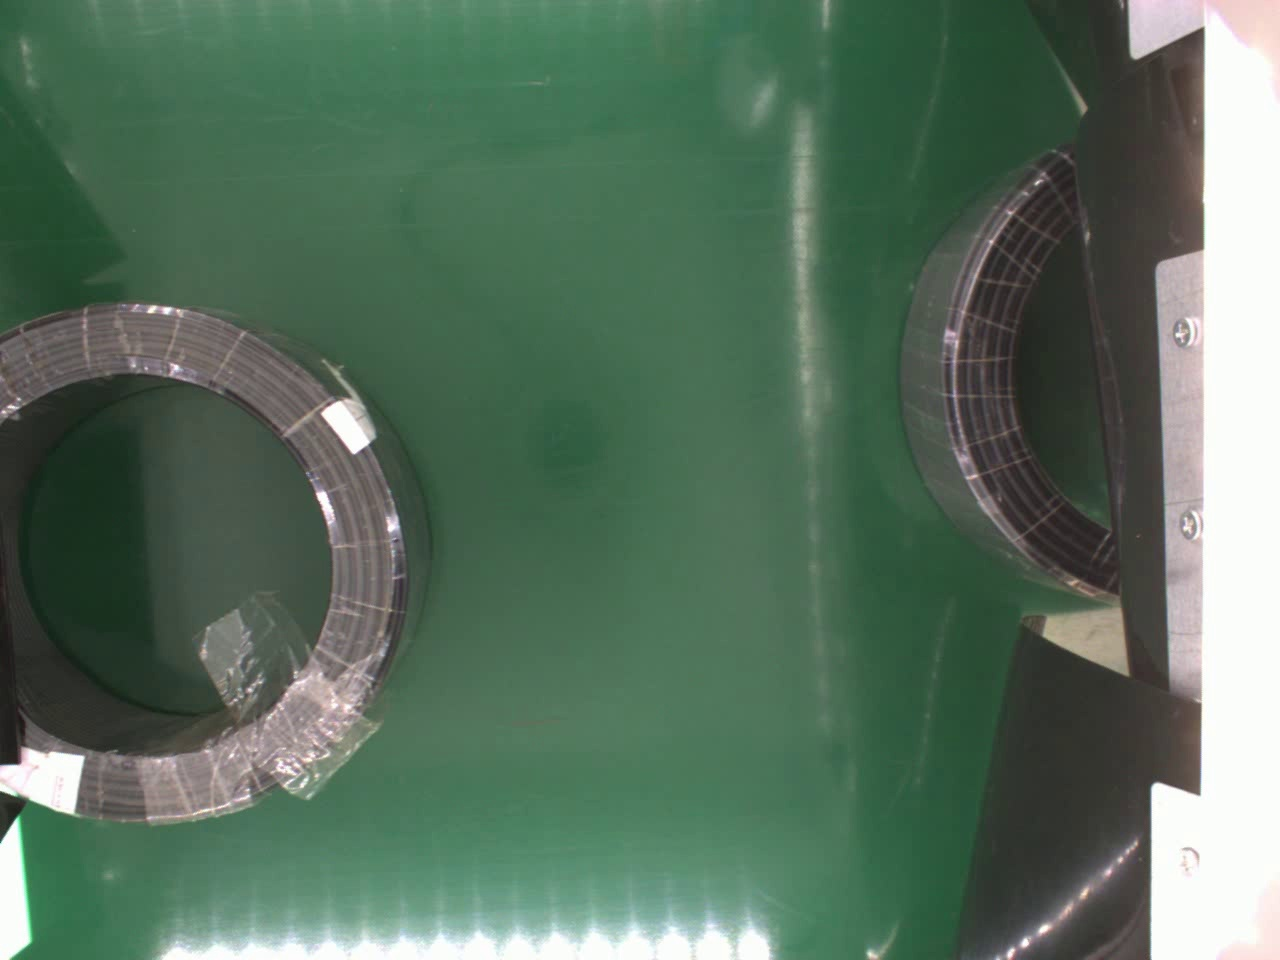black: (0, 295, 433, 828), (894, 136, 1118, 608)
